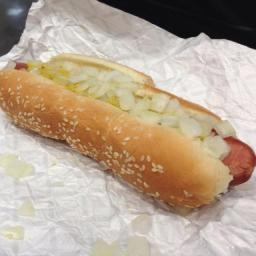hotdog: (210, 131, 256, 199), (13, 56, 29, 74)
